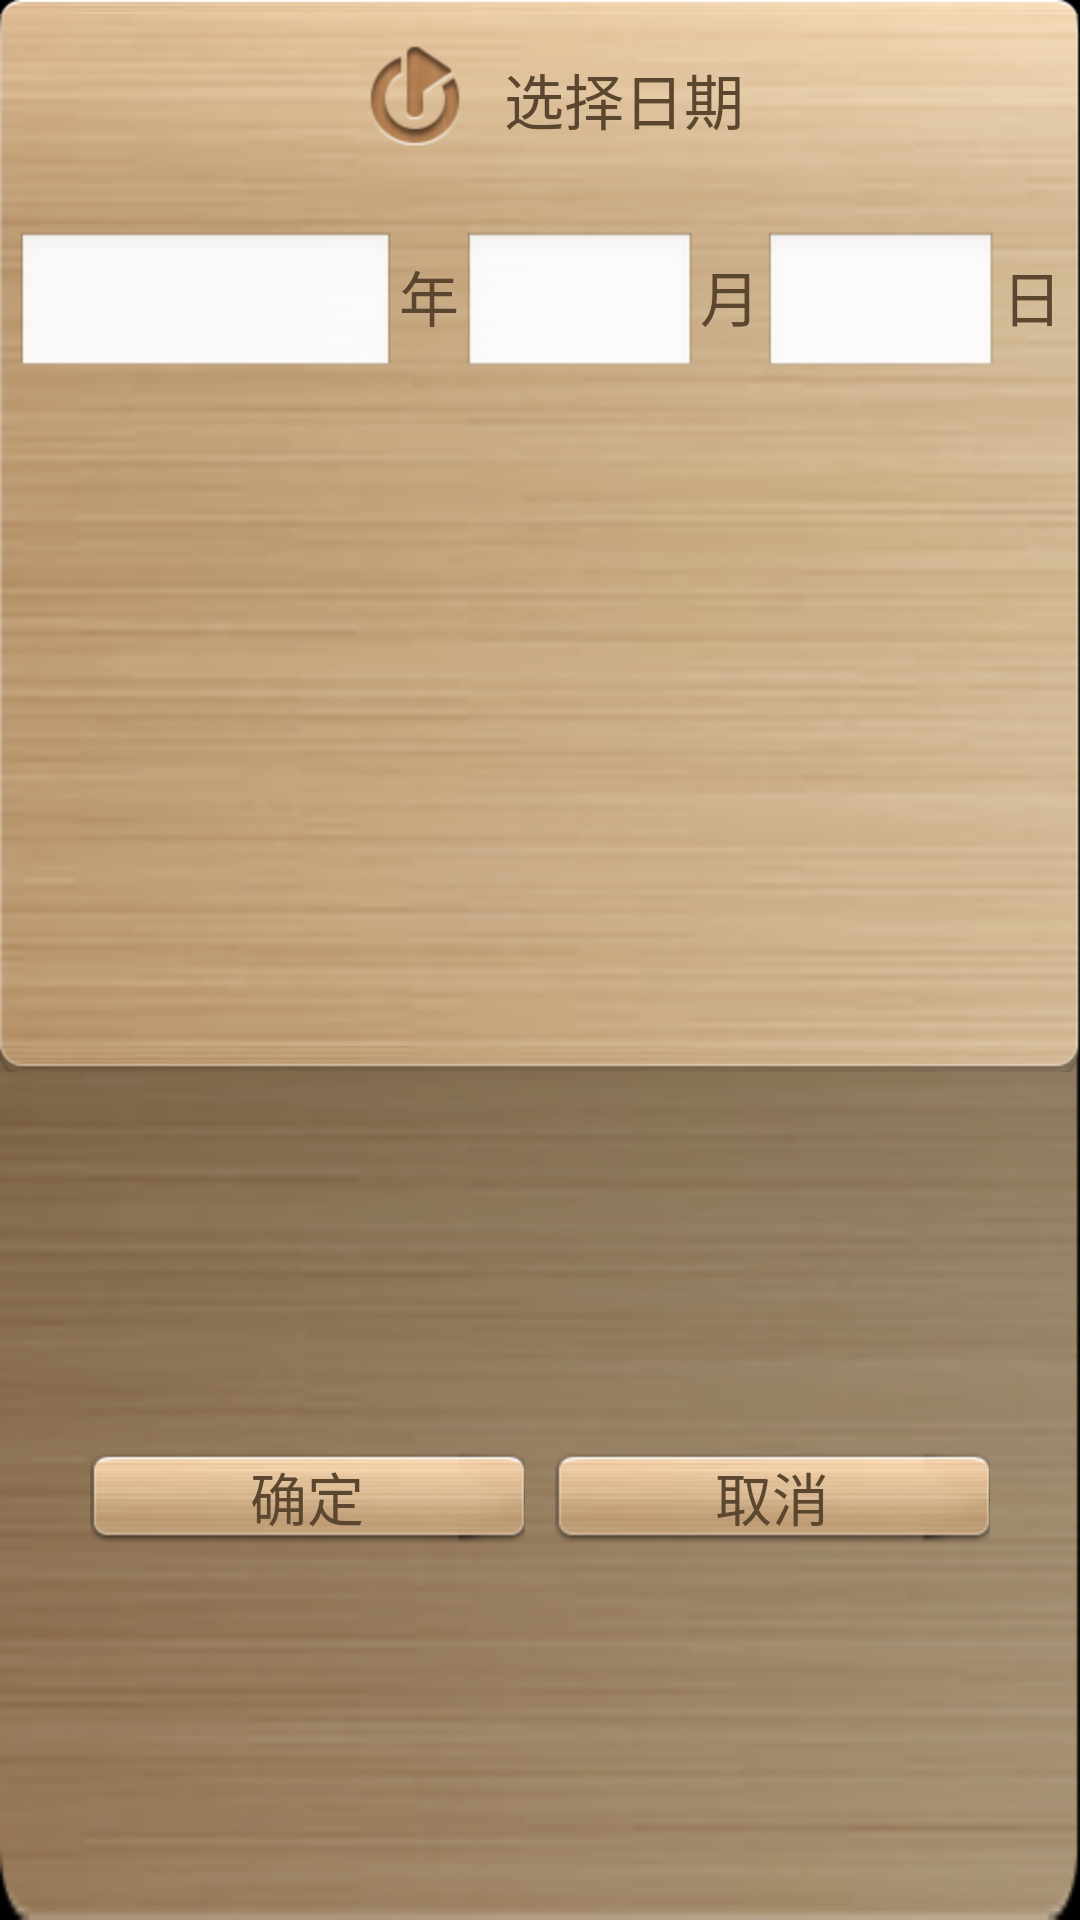

Where to tap for icons on this 1080px×1920px app screen, as (x,y):
goto title: (415,105)
